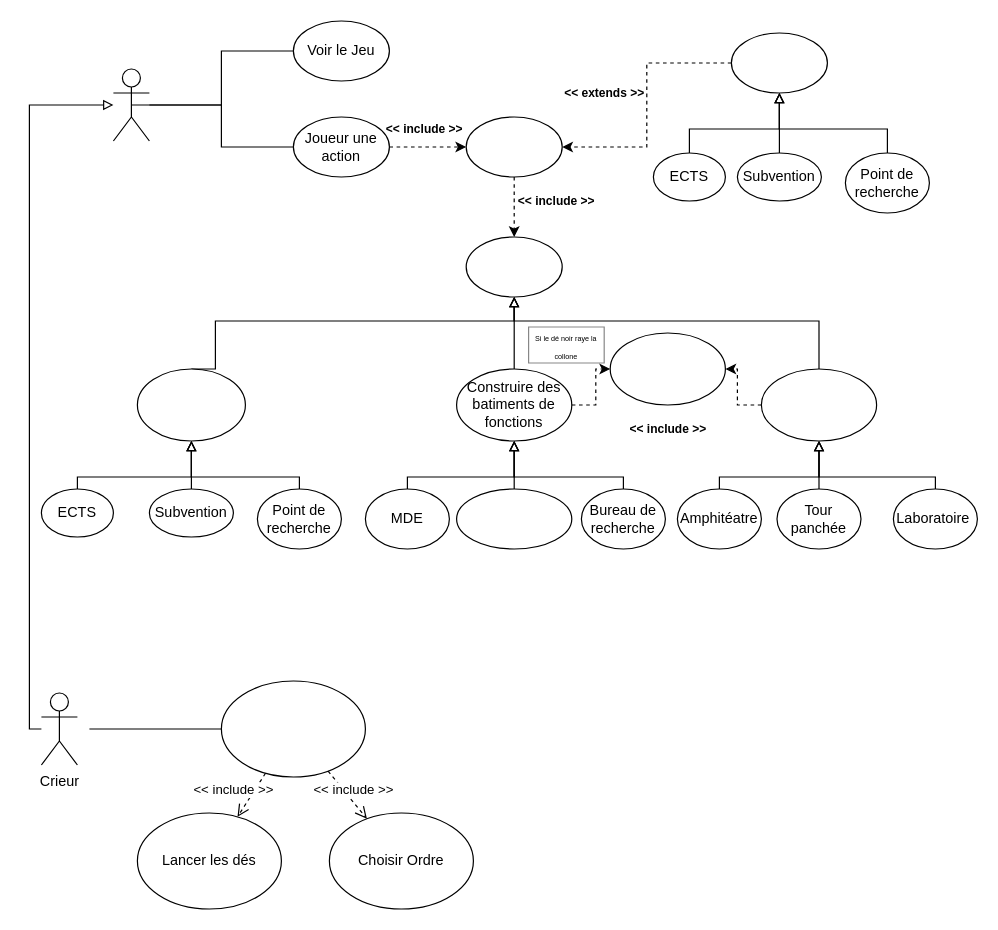
Some shapes in this 998 by 930 pixel diagram are drawn without their labels. The centre of each missing label's shape, as x and y in pixels:
Bureau d'administration: (513,518)
Choisir une case: (513,146)
Chosir une action: (513,266)
Construire des batiments de prestige: (818,404)
Gagner des ressources: (190,404)
Joueur: (130,104)
Positionner les dés: (292,728)
Utiliser des ressources: (778,62)
Vérifier la possibilité de construire: (667,368)
